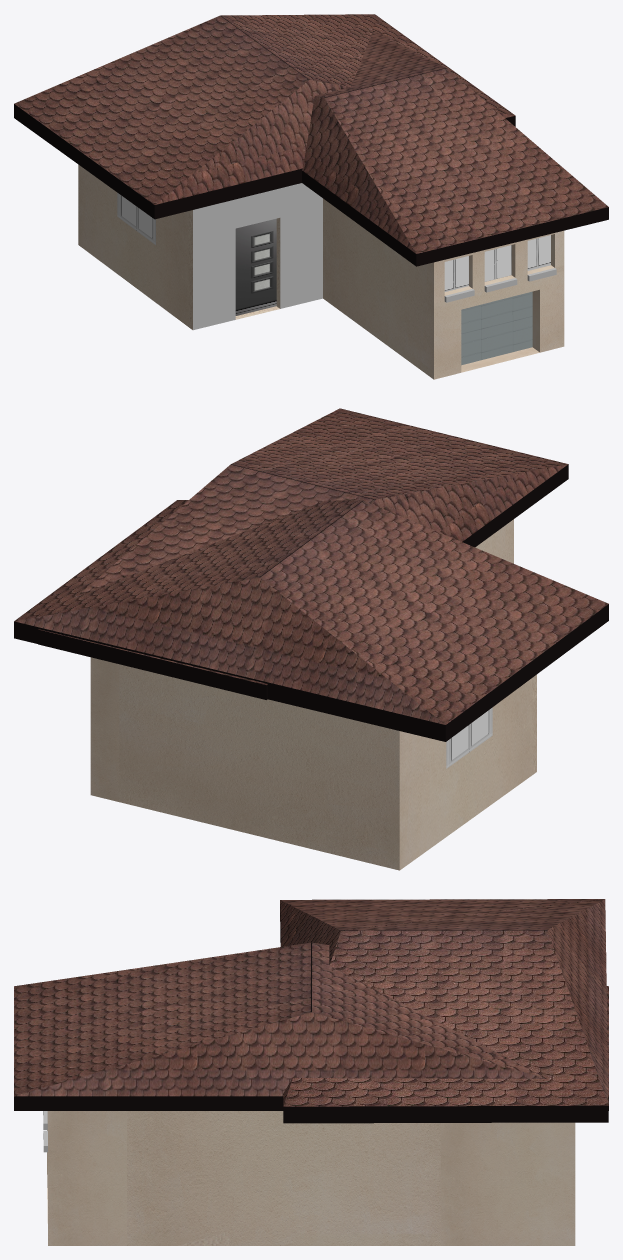
The model's file is Maison3.fbx.
3 renders of one model, top to bottom at view 1: azimuth 30°, elevation 25°; view 2: azimuth 150°, elevation 25°; view 3: azimuth 270°, elevation 25°, orthographic. The views are drawn at different scales.
Parts seen in each view (by area): view 1: Boîte001, Boîte003, Boîte002; view 2: Boîte003, Boîte001, Boîte002; view 3: Boîte001, Boîte002, Boîte003.
Part boxes in pixels (bbox=[...]): Boîte001: bbox=[78, 164, 564, 379]; Boîte003: bbox=[14, 14, 515, 219]; Boîte002: bbox=[302, 30, 608, 266]; Boîte003: bbox=[14, 500, 608, 741]; Boîte001: bbox=[90, 519, 536, 870]; Boîte002: bbox=[38, 408, 568, 699]; Boîte001: bbox=[43, 1111, 575, 1245]; Boîte002: bbox=[14, 942, 608, 1110]; Boîte003: bbox=[280, 899, 608, 1123].
Bounding box in the file's own units: 2796 × 1522 × 3385.
